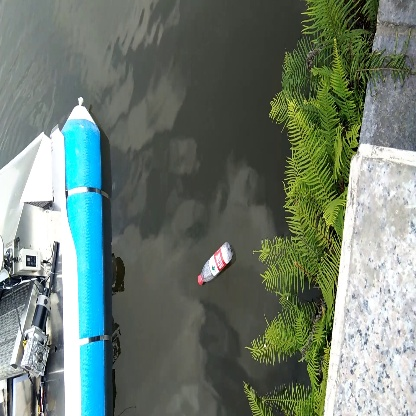bottle: (194, 239, 234, 285)
